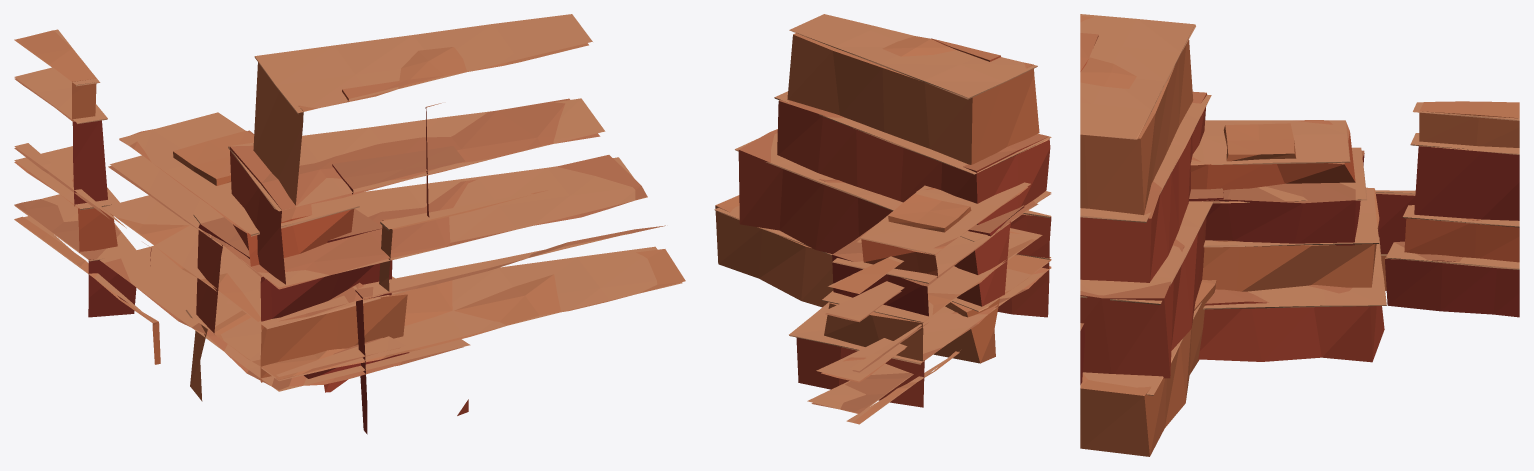
3 views of the same model, side by side, from view 1: azimuth 30°, elevation 25°; view 2: azimuth 150°, elevation 25°; view 3: azimuth 270°, elevation 25° (orthographic). The views are drawn at different scales.
Parts seen in each view (by area): view 1: scene.2.4; view 2: scene.2.4; view 3: scene.2.4.
Part boxes in pixels (x1,y1,x2,y2): scene.2.4: (14,14,685,434); scene.2.4: (714,14,1051,424); scene.2.4: (1080,14,1519,456).
Size of the model in its own units: 57.87 by 45.24 by 62.5.
